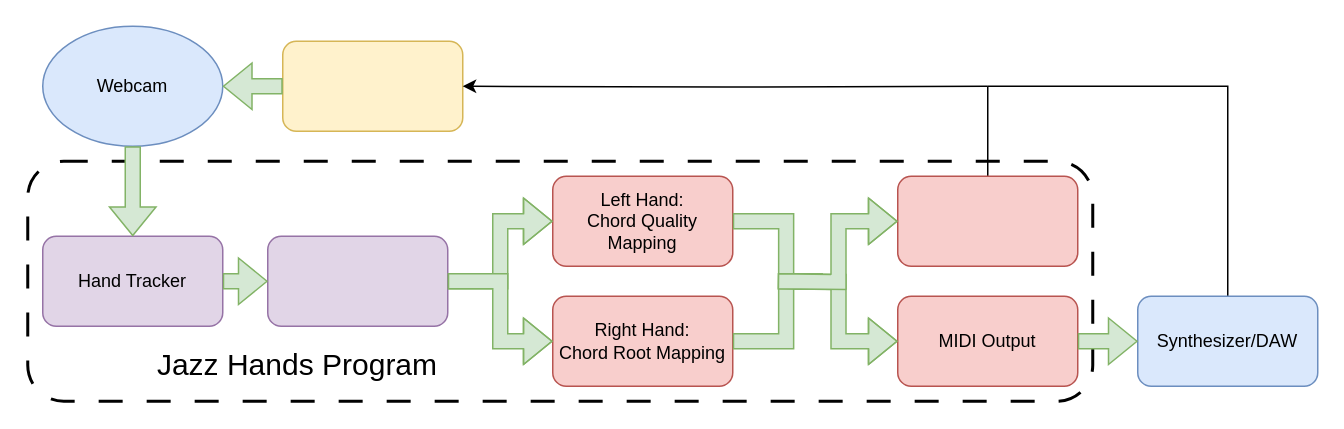
The diagram is 1344 pixels wide and 429 high, and some of its shapes have lost their labels. Each missing label, with the centre of its shape:
Gesture Processing: [357,280]
Overlay: [987,220]
User/Performer: [372,85]
